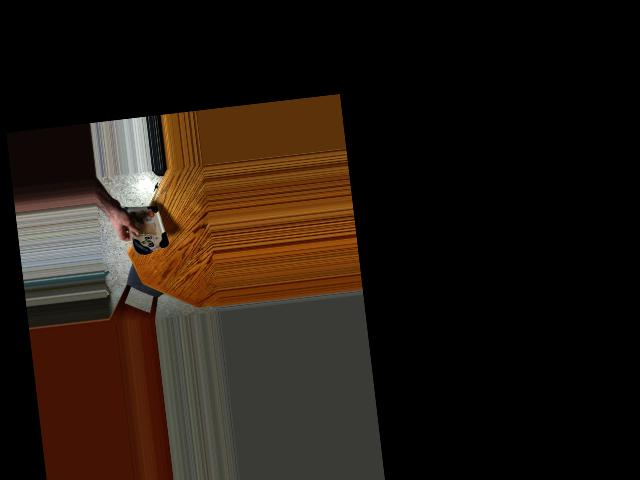cheese: (119, 201, 170, 257)
